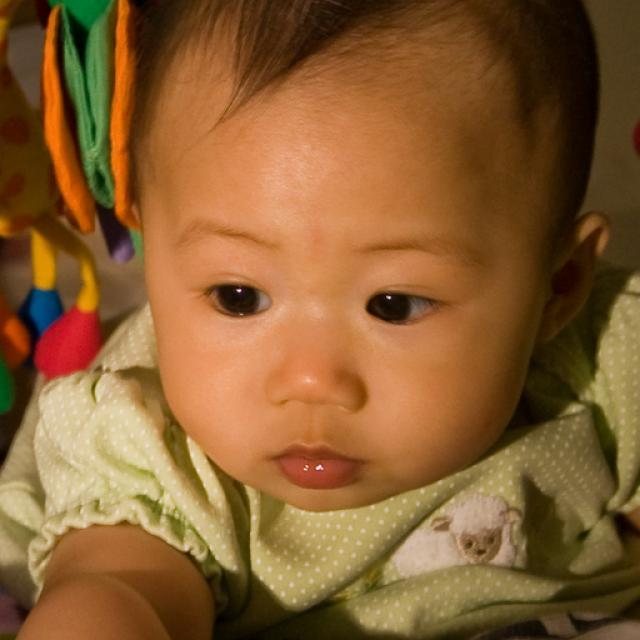neutral: (137, 0, 553, 512)
